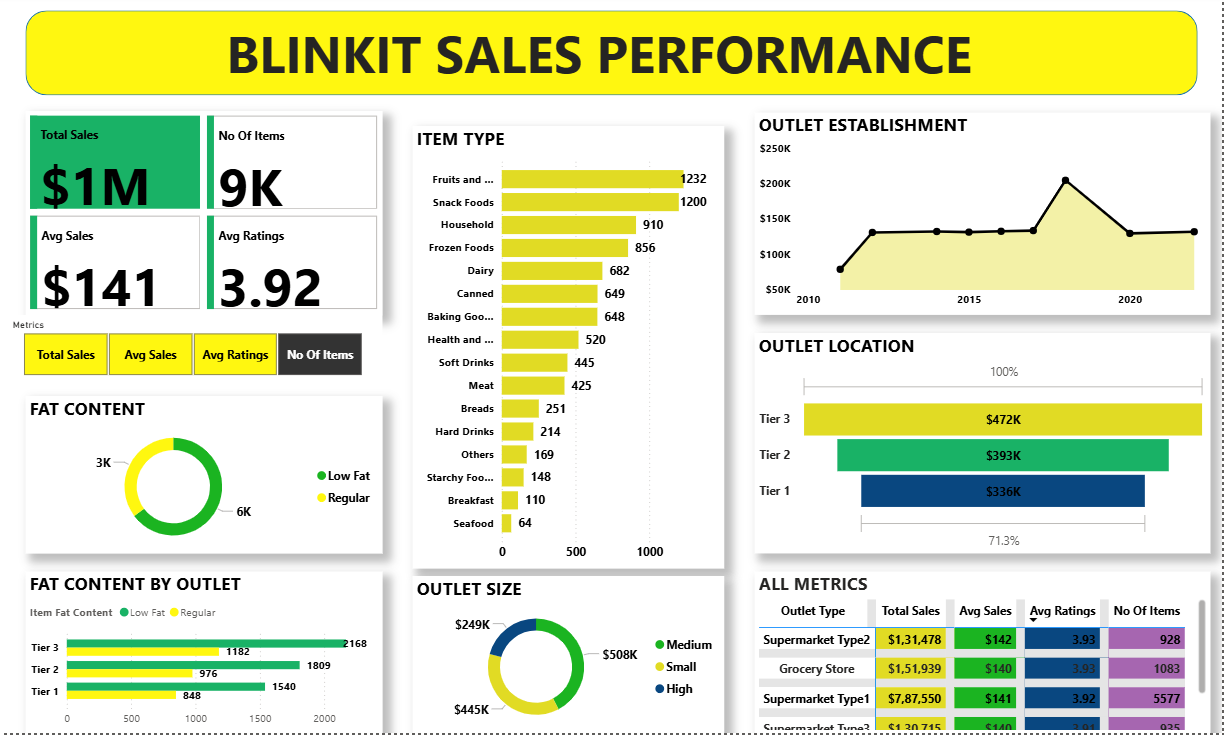

The dashboard page shown, as its layout file describes it:
{"tool":"powerbi","page":{"name":"Page 1","canvas":[1400,847],"ordinal":0},"visuals":[{"type":"shape","box":[28.9,18.6,1343.5,97.1],"z":0},{"type":"textbox","box":[237.7,22.7,899.1,90.9],"z":1000},{"type":"cardVisual","fields":{"Data":["BlinkIT Grocery Data.Total Sales","BlinkIT Grocery Data.No Of Items","BlinkIT Grocery Data.Avg Sales","BlinkIT Grocery Data.Avg Ratings"]},"box":[29.2,134.1,409.2,233.8],"z":2000},{"type":"donutChart","title":"FAT CONTENT","fields":{"Y":["BlinkIT Grocery Data.No Of Items"],"Category":["BlinkIT Grocery Data.Item Fat Content"]},"box":[29.2,460.8,409.2,180.5],"z":3000},{"type":"slicer","fields":{"Values":["Metrics.Metrics"]},"box":[1.7,367.9,436.7,75.6],"z":4000},{"type":"clusteredBarChart","title":"FAT CONTENT BY OUTLET","fields":{"Y":["BlinkIT Grocery Data.No Of Items"],"Category":["BlinkIT Grocery Data.Outlet Location Type"],"Series":["BlinkIT Grocery Data.Item Fat Content"]},"box":[29.2,661.9,409.2,185.7],"z":5000},{"type":"barChart","title":"ITEM TYPE","fields":{"Y":["BlinkIT Grocery Data.No Of Items"],"Category":["BlinkIT Grocery Data.Item Type"]},"box":[472.8,151.3,357.6,507.2],"z":6000},{"type":"lineChart","title":"OUTLET ESTABLISHMENT","fields":{"Category":["BlinkIT Grocery Data.Outlet Establishment Year"],"Y":["BlinkIT Grocery Data.Total Sales"]},"box":[864.8,135.8,522.7,232.1],"z":7000},{"type":"donutChart","title":"OUTLET SIZE","fields":{"Category":["BlinkIT Grocery Data.Outlet Size"],"Y":["BlinkIT Grocery Data.Total Sales"]},"box":[472.8,667.1,357.6,180.5],"z":8000},{"type":"funnel","title":"OUTLET LOCATION","fields":{"Category":["BlinkIT Grocery Data.Outlet Location Type"],"Y":["BlinkIT Grocery Data.Total Sales"]},"box":[864.8,388.6,522.7,252.7],"z":9000},{"type":"pivotTable","title":"ALL METRICS","fields":{"Rows":["BlinkIT Grocery Data.Outlet Type"],"Values":["BlinkIT Grocery Data.Total Sales","BlinkIT Grocery Data.Avg Sales","BlinkIT Grocery Data.Avg Ratings","BlinkIT Grocery Data.No Of Items"]},"box":[864.8,661.9,522.7,185.7],"z":9001}]}

Visuals, with their boxes in screenshot pixels (x1, y1, x2, y2), scaled from the page's 1400x847 canvas onto the 1224x735 screenshot:
shape: Rect(25, 16, 1200, 100)
textbox: Rect(208, 20, 994, 99)
cardVisual - BlinkIT Grocery Data.Total Sales x BlinkIT Grocery Data.No Of Items: Rect(26, 116, 383, 319)
"FAT CONTENT" donutChart: Rect(26, 400, 383, 556)
slicer - Metrics.Metrics: Rect(1, 319, 383, 385)
"FAT CONTENT BY OUTLET" clusteredBarChart: Rect(26, 574, 383, 734)
"ITEM TYPE" barChart: Rect(413, 131, 726, 571)
"OUTLET ESTABLISHMENT" lineChart: Rect(756, 118, 1213, 319)
"OUTLET SIZE" donutChart: Rect(413, 579, 726, 734)
"OUTLET LOCATION" funnel: Rect(756, 337, 1213, 556)
"ALL METRICS" pivotTable: Rect(756, 574, 1213, 734)
